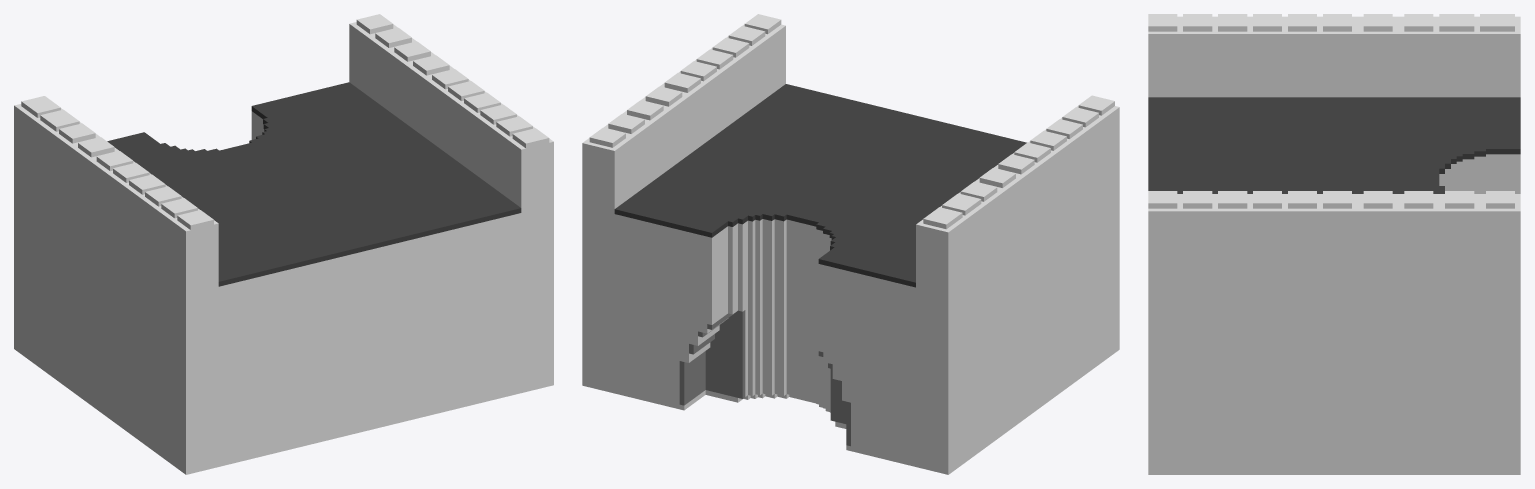
File: tax_building.obj
3 views of the same model, side by side, from view 1: azimuth 30°, elevation 25°; view 2: azimuth 150°, elevation 25°; view 3: azimuth 270°, elevation 25° (orthographic). The views are drawn at different scales.
Bounding box in the file's own units: 7.9 × 5.1 × 6.4.
1 material, 1 textured.
